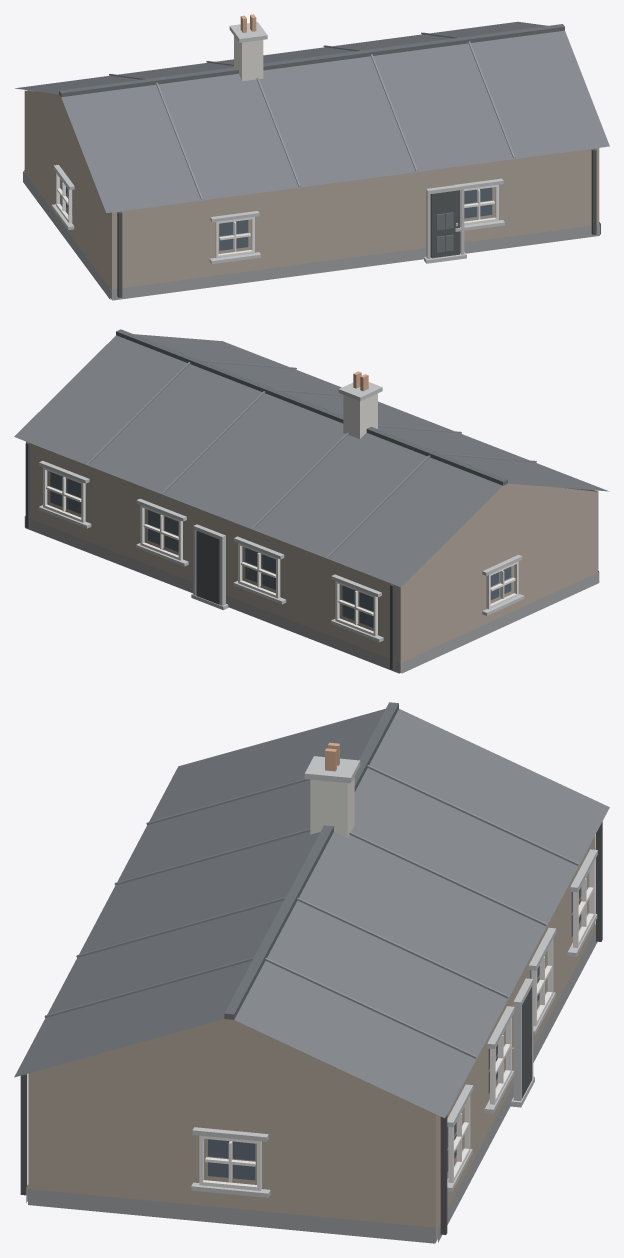
3 renders of one model, top to bottom at view 1: azimuth 30°, elevation 25°; view 2: azimuth 150°, elevation 25°; view 3: azimuth 270°, elevation 25°, orthographic. The views are drawn at different scales.
Parts seen in each view (by area): view 1: slate, harl_brown, plinth, slate_dk, stone_band, frame, slate_lt, door_dark, chim_render, pipe, door_dark_p; view 2: slate, harl_brown, plinth, stone_band, frame, slate_dk, slate_lt, door_dark, chim_render, pipe; view 3: slate, harl_brown, plinth, stone_band, frame, slate_lt, slate_dk, pipe, chim_render, door_dark.
Part boxes in pixels (x1=…): slate: x1=15, y1=21, x2=609, y2=213; harl_brown: x1=24, y1=90, x2=599, y2=299; plinth: x1=23, y1=170, x2=600, y2=300; slate_dk: x1=59, y1=24, x2=564, y2=97; stone_band: x1=51, y1=22, x2=504, y2=263; frame: x1=56, y1=172, x2=498, y2=258; slate_lt: x1=109, y1=32, x2=515, y2=199; door_dark: x1=430, y1=190, x2=459, y2=258; chim_render: x1=234, y1=36, x2=263, y2=81; pipe: x1=117, y1=149, x2=596, y2=297; door_dark_p: x1=436, y1=212, x2=453, y2=252; slate: x1=14, y1=334, x2=609, y2=587; harl_brown: x1=26, y1=441, x2=597, y2=672; plinth: x1=24, y1=515, x2=599, y2=673; stone_band: x1=38, y1=382, x2=524, y2=642; frame: x1=43, y1=467, x2=518, y2=636; slate_dk: x1=116, y1=329, x2=507, y2=485; slate_lt: x1=87, y1=360, x2=536, y2=558; door_dark: x1=196, y1=530, x2=219, y2=604; chim_render: x1=343, y1=393, x2=377, y2=439; pipe: x1=25, y1=442, x2=598, y2=669; slate: x1=14, y1=709, x2=609, y2=1118; harl_brown: x1=28, y1=835, x2=595, y2=1242; plinth: x1=26, y1=925, x2=597, y2=1243; stone_band: x1=191, y1=756, x2=597, y2=1197; frame: x1=199, y1=860, x2=594, y2=1190; slate_lt: x1=44, y1=765, x2=578, y2=1058; slate_dk: x1=224, y1=702, x2=398, y2=1019; pipe: x1=20, y1=821, x2=602, y2=1234; chim_render: x1=310, y1=777, x2=354, y2=837; door_dark: x1=522, y1=987, x2=531, y2=1098.
Size of the model in its own units: 16.51 by 6.29 by 11.81.
